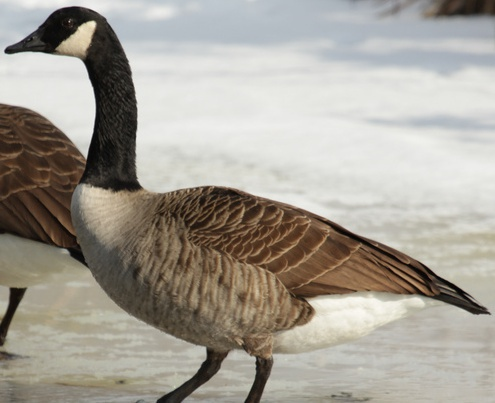goose: (1, 3, 494, 394)
